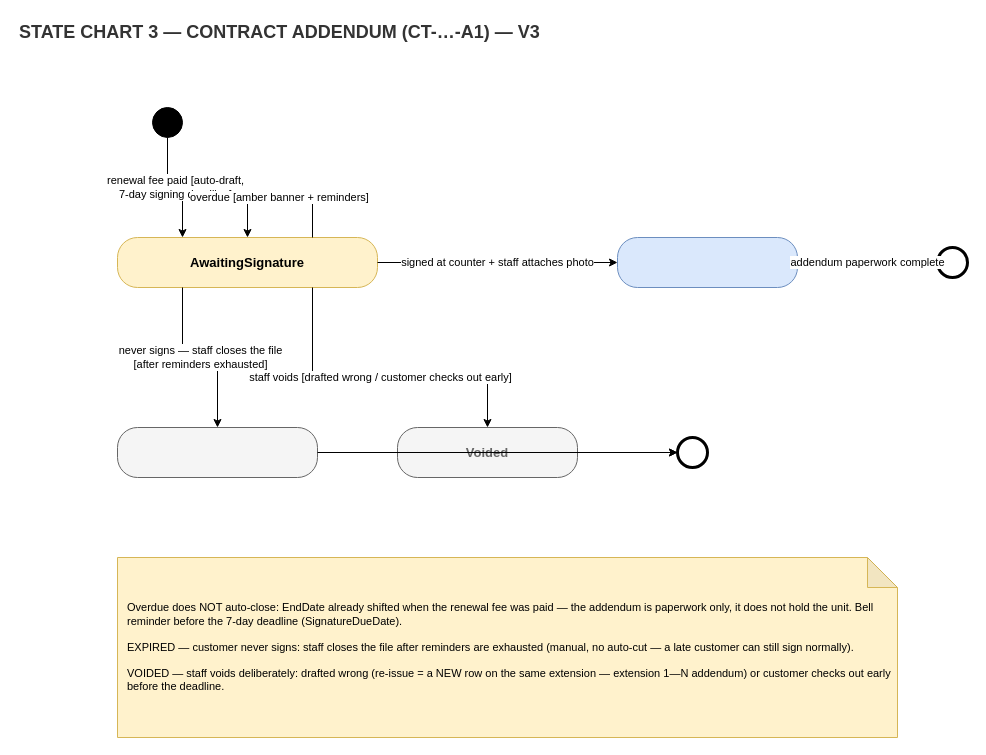
Image size: 986x755. Some labels were removed from this diagram. The shapes that lost their labels are listed below. From the top down, each one's box as (x1, y1, x2, y2) in pixels, then its label:
(616, 236, 798, 288): Signed
(116, 426, 318, 478): Expired
